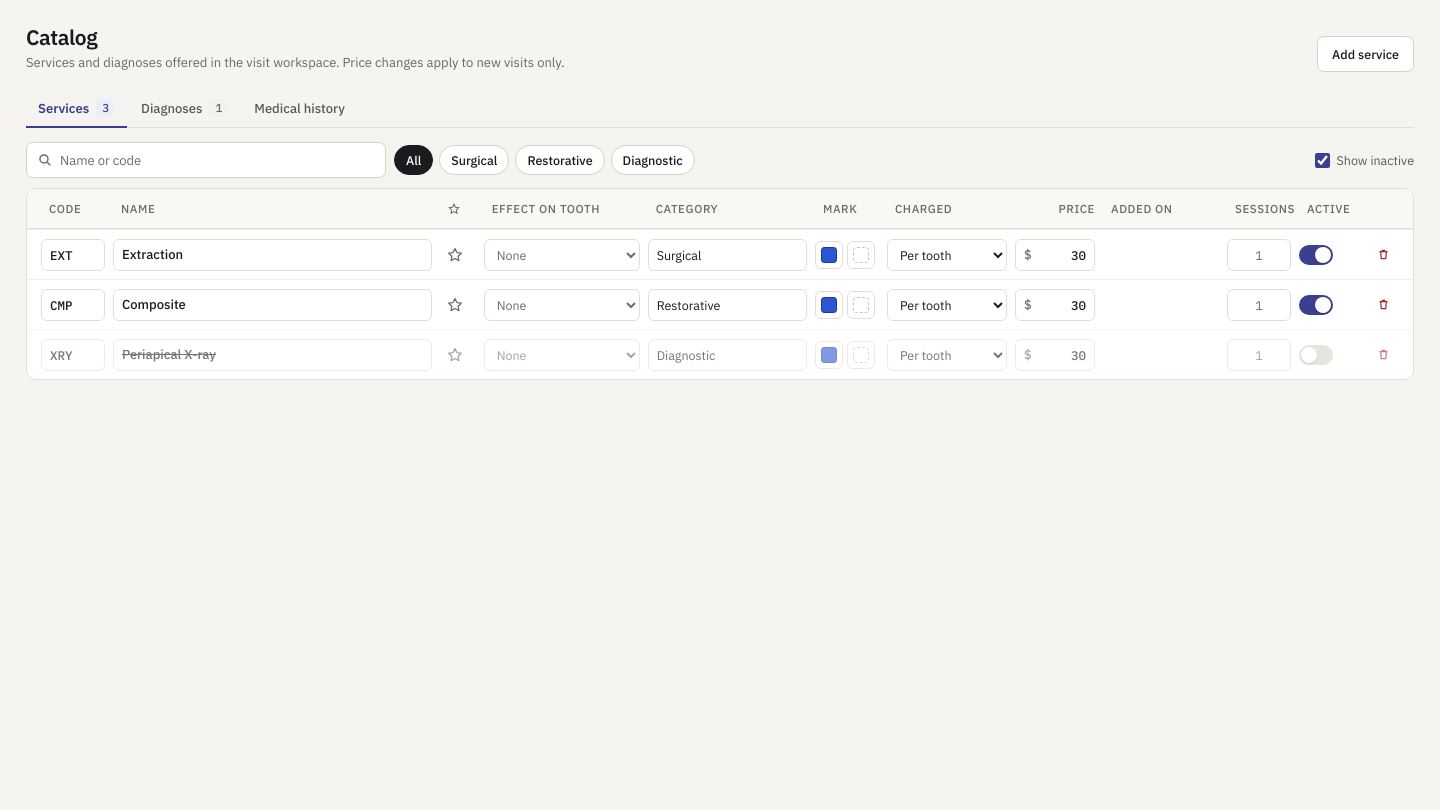
Scenario: CatalogPage › flags a duplicate code on the row
Click the button "Add service".
click(1366, 54)  # box [1317, 36, 1414, 72]
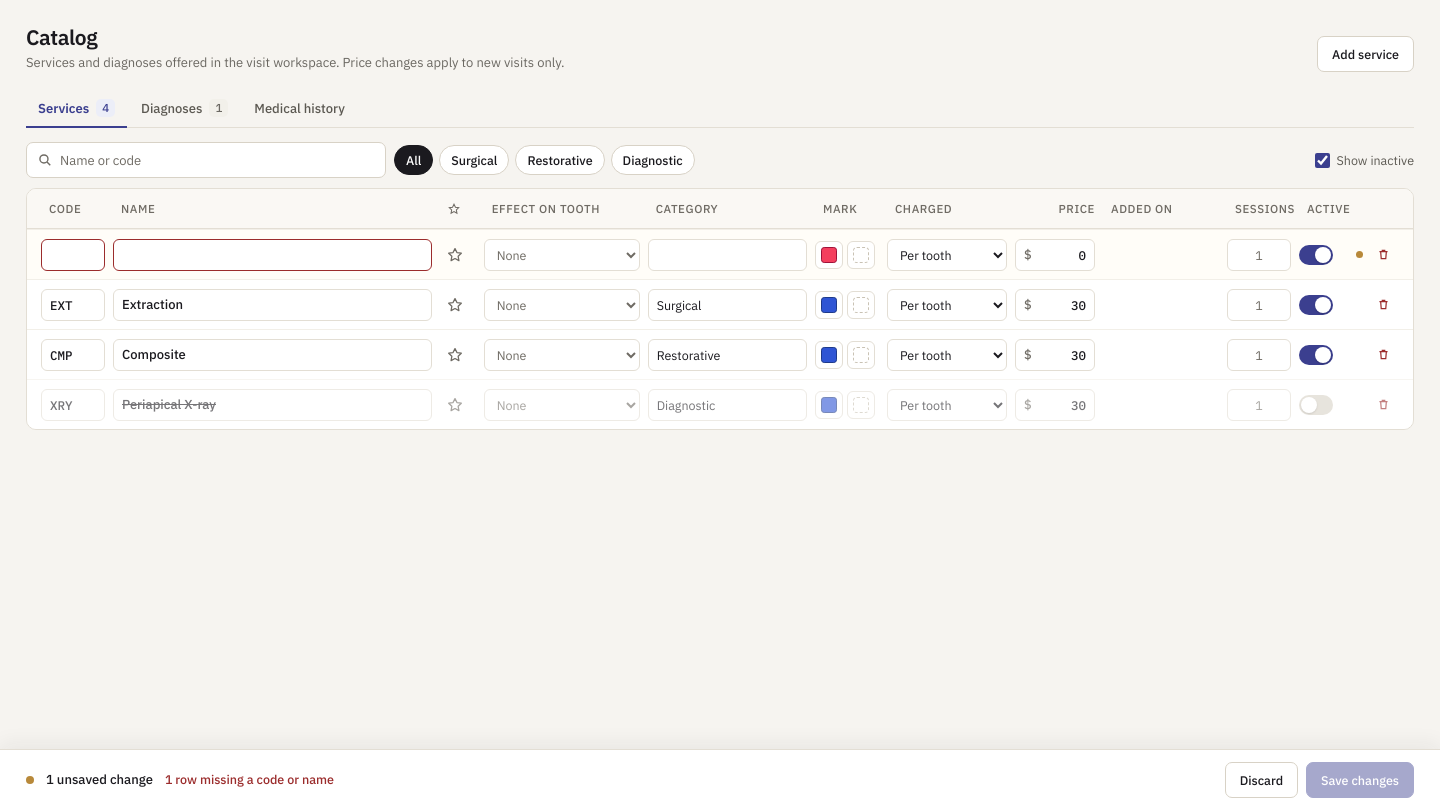
Type "ext" into the 1st field named "Code".
click(73, 255); type("ext")  # box [41, 239, 105, 271]
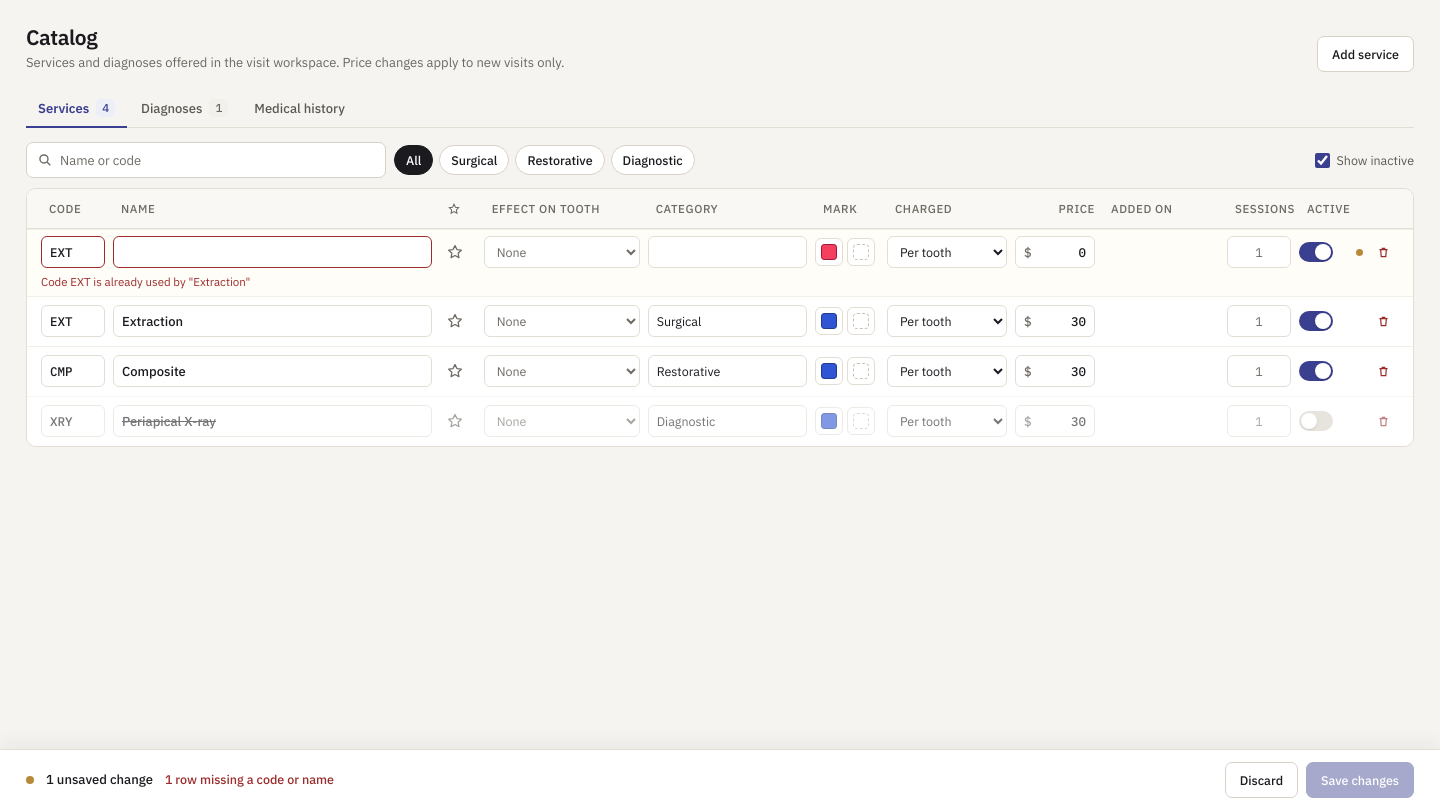
Type "Another extraction" into the 1st field named "Name".
click(272, 252); type("Another extraction")  # box [113, 236, 432, 268]
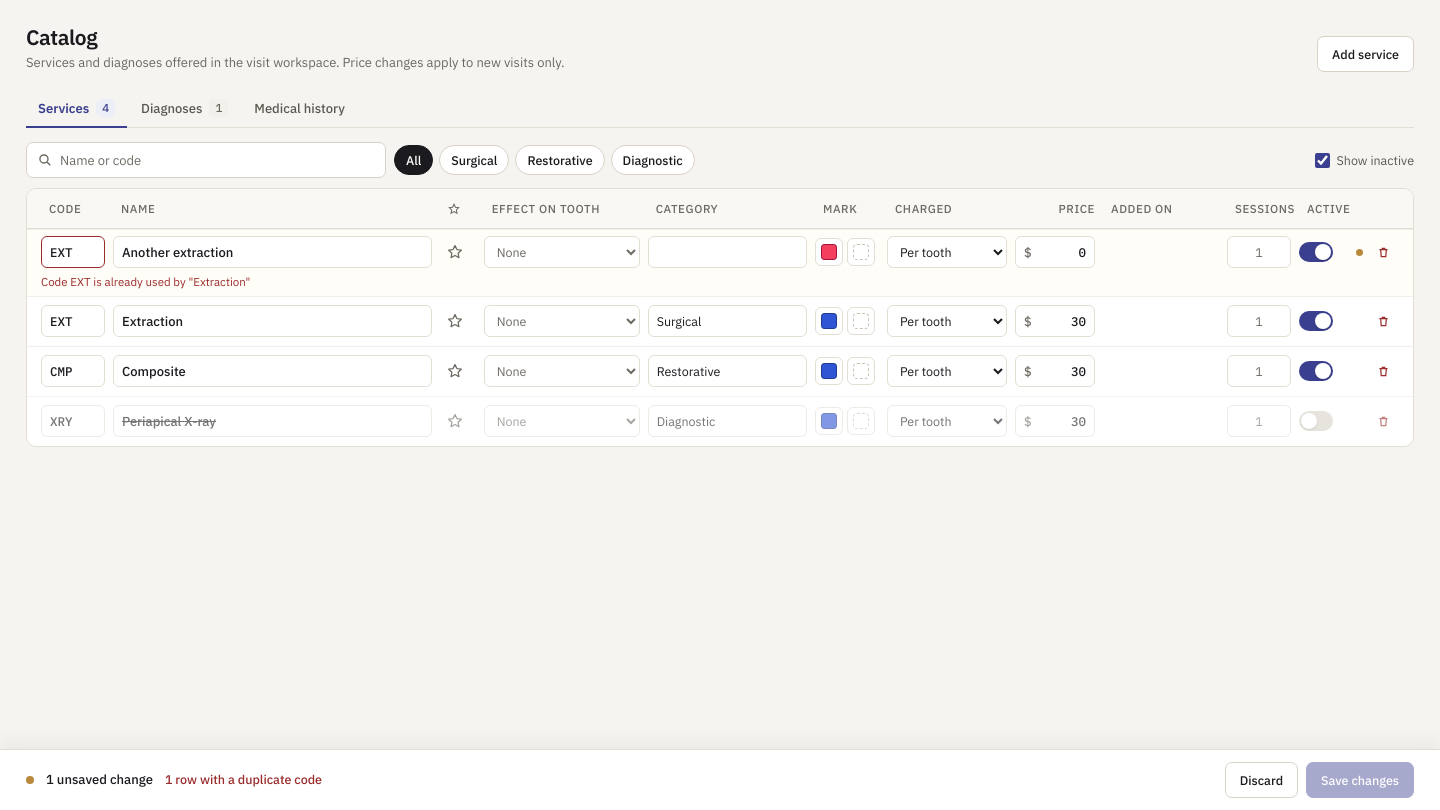
Now the text "Code EXT is already used by \"Extraction\"" is shown, box [41, 274, 250, 289]
Now the text "1 row with a duplicate code" is shown, box [165, 772, 322, 788]
